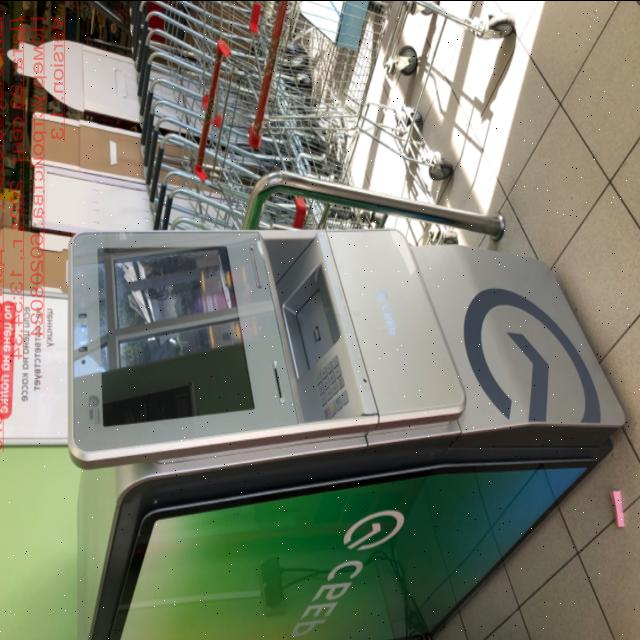bank: (68, 231, 621, 640)
